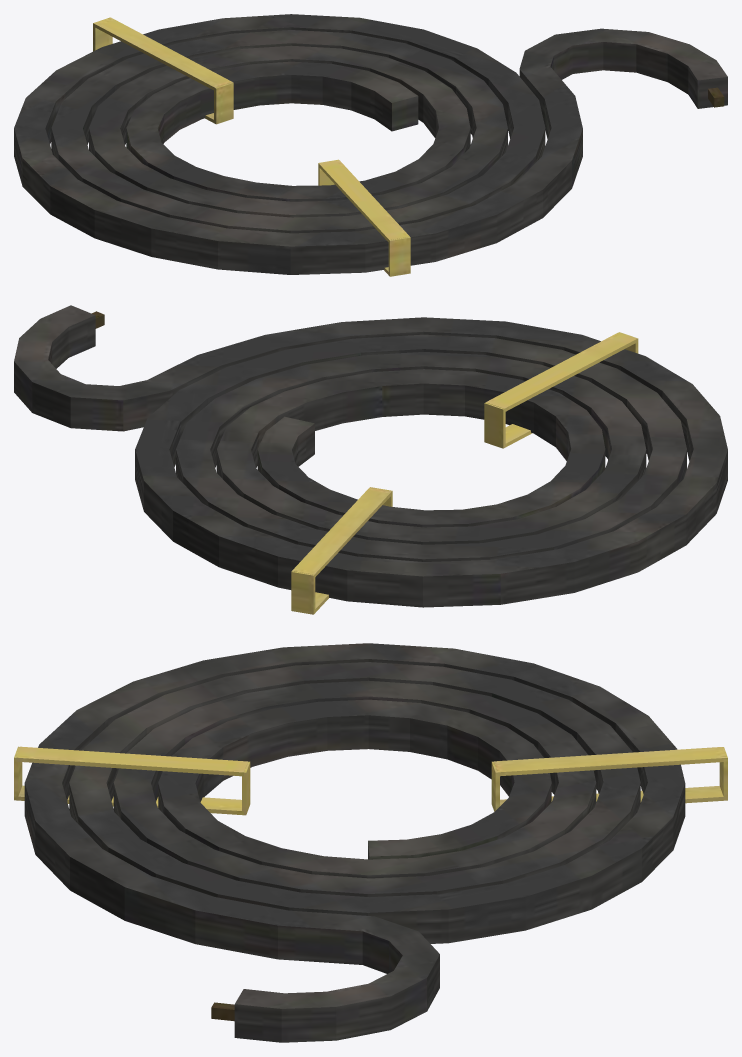
The model's file is D25_wire_coil.glb.
The picture shows the model from 3 angles, top to bottom: view 1: azimuth 30°, elevation 25°; view 2: azimuth 150°, elevation 25°; view 3: azimuth 270°, elevation 25°; orthographic projection. The views are drawn at different scales.
Parts seen in each view (by area): view 1: Old coiled electrical cable; view 2: Old coiled electrical cable; view 3: Old coiled electrical cable.
Part boxes in pixels (<box>): Old coiled electrical cable: <box>14,14,727,276</box>; Old coiled electrical cable: <box>14,305,727,614</box>; Old coiled electrical cable: <box>14,643,727,1042</box>.
Bounding box in the file's own units: 0.4 × 0.0219 × 0.331.
3 materials, 3 textured.
